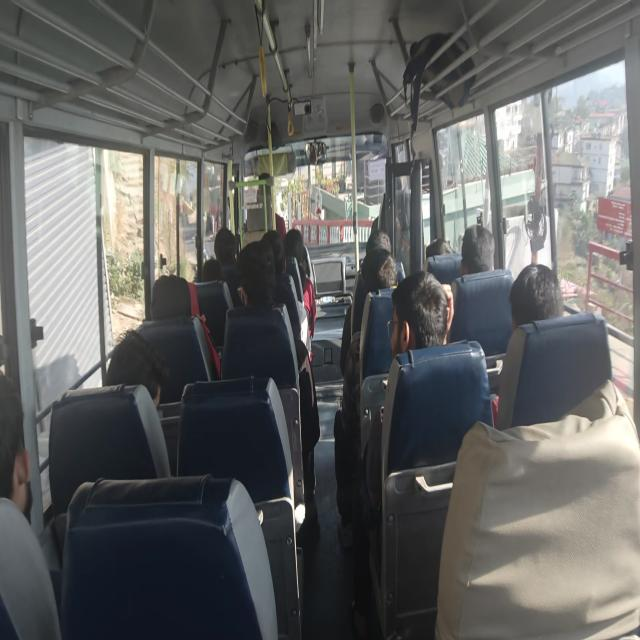person: (385, 272, 453, 368), (0, 356, 36, 532), (506, 251, 568, 343), (106, 324, 166, 401), (147, 268, 201, 326), (458, 220, 496, 283), (356, 246, 401, 296), (237, 244, 274, 304), (259, 231, 292, 280), (252, 165, 278, 211), (212, 219, 242, 258), (363, 221, 393, 257), (196, 253, 226, 286), (285, 227, 311, 264), (422, 230, 456, 257), (385, 174, 407, 206)
